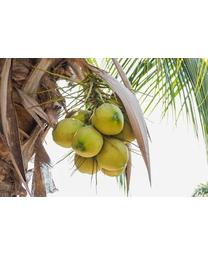coconut: (93, 100, 125, 136), (72, 126, 105, 154), (102, 140, 127, 173), (53, 119, 84, 144), (75, 155, 99, 175)
